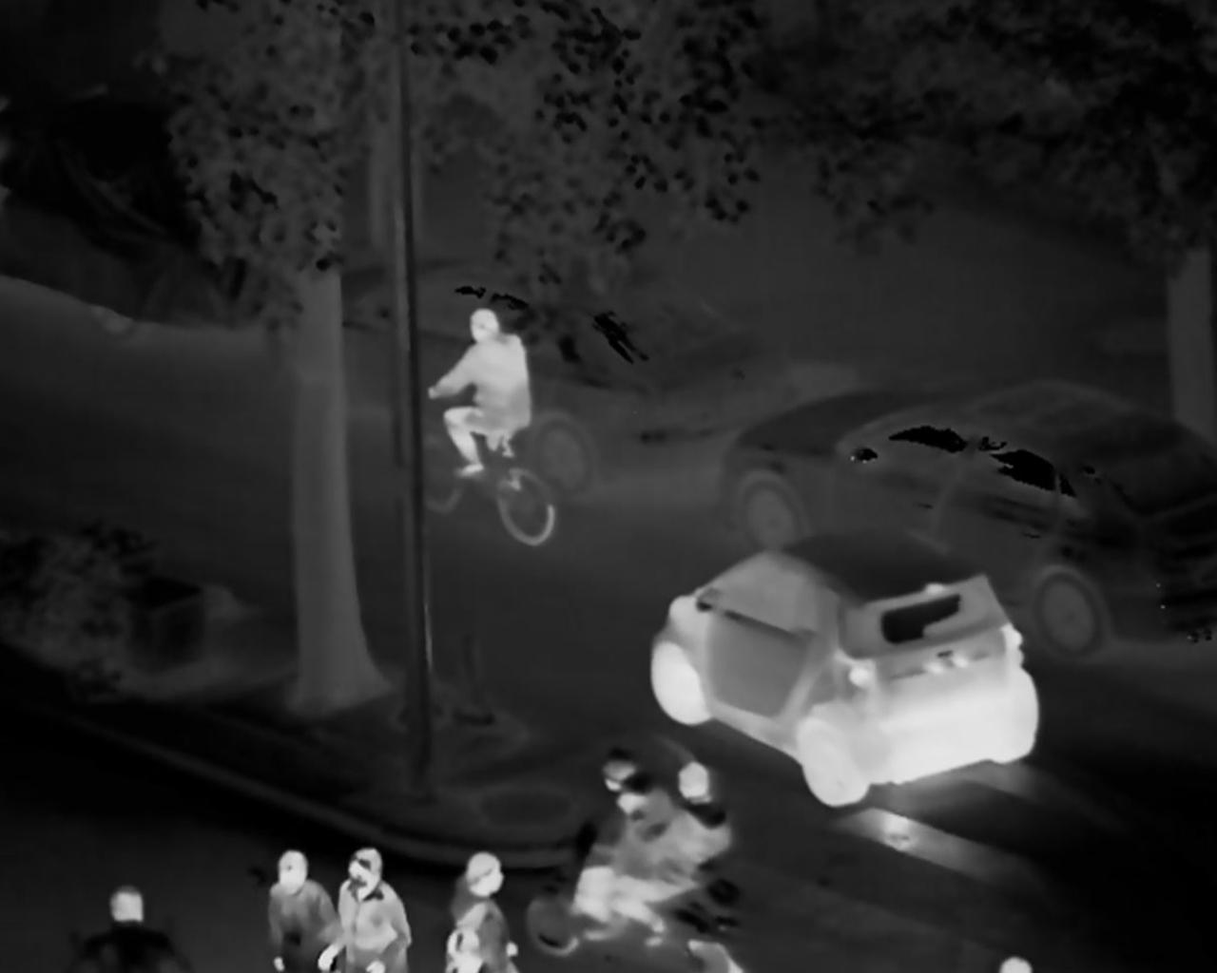person: (418, 303, 540, 491), (653, 760, 737, 917), (255, 843, 342, 973), (590, 754, 650, 917), (339, 846, 411, 973), (449, 852, 522, 973), (102, 878, 175, 973)
